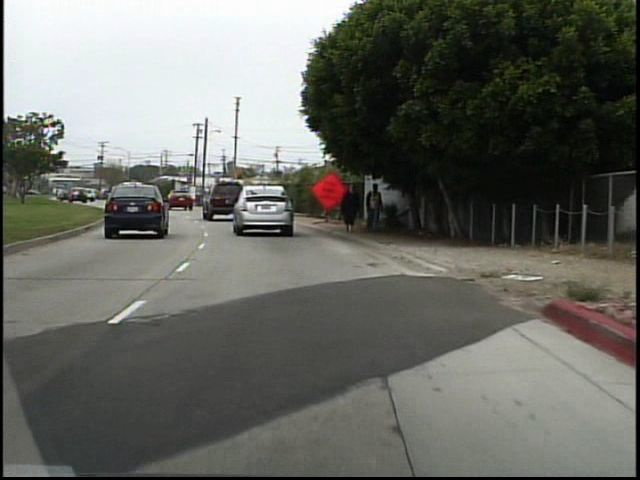person: (335, 177, 365, 238), (361, 181, 385, 237)
